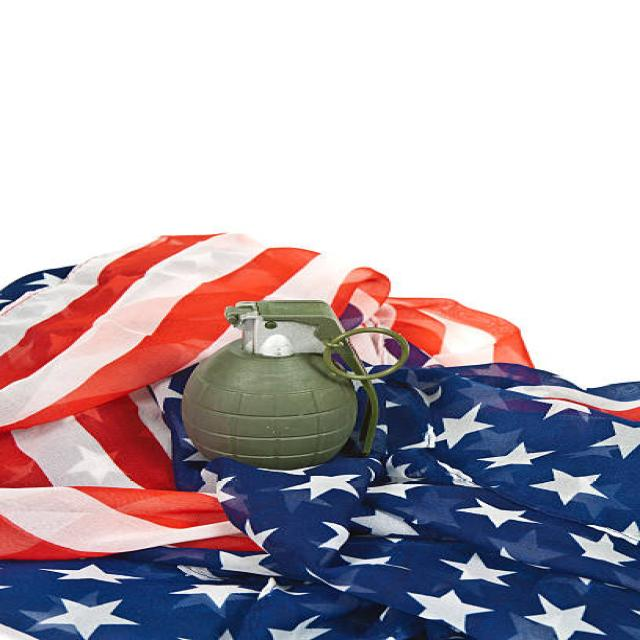grenade: (174, 293, 413, 477)
